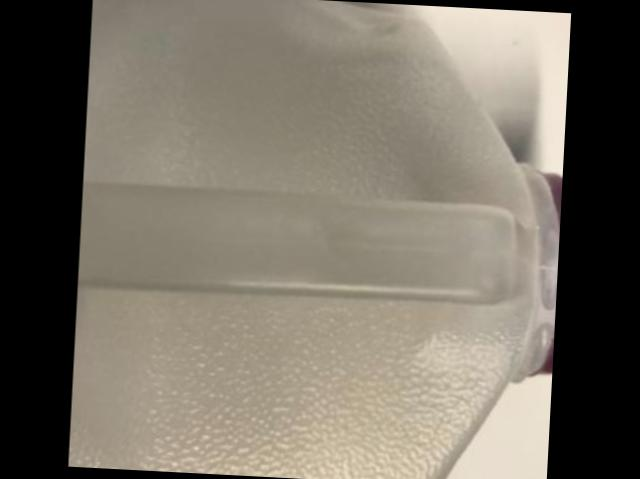plastic: (70, 0, 563, 479)
